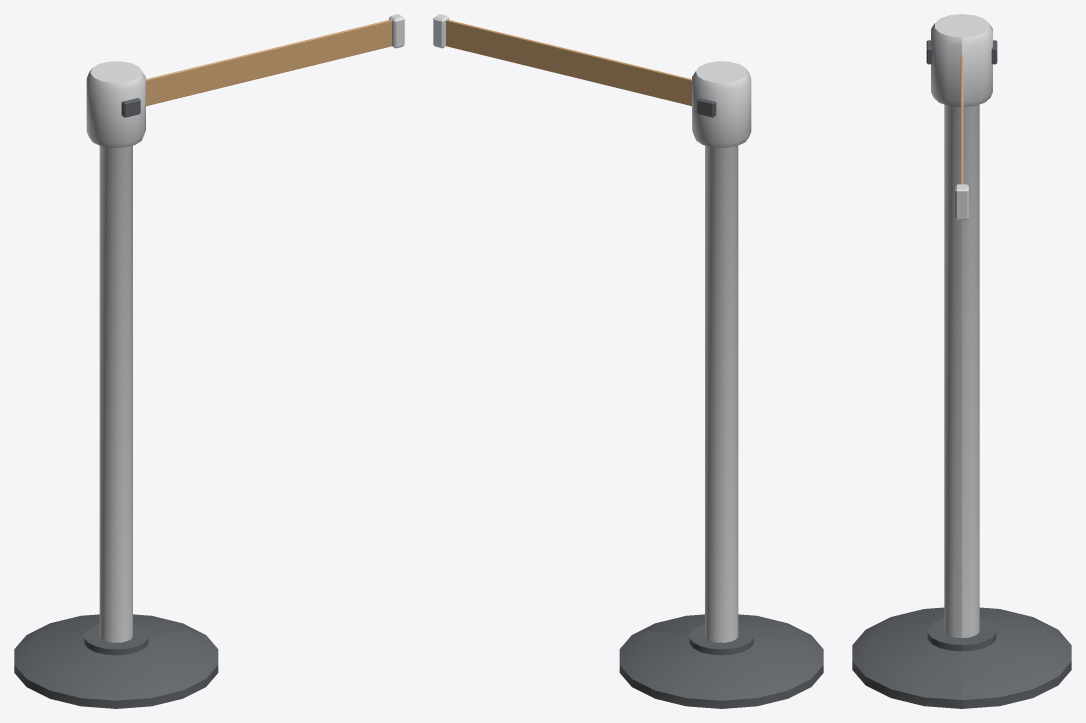
File: bakery-and-cafe-queue-rail-post-2f48aeda__22141.glb
The picture shows the model from 3 angles, left to right: view 1: azimuth 30°, elevation 25°; view 2: azimuth 150°, elevation 25°; view 3: azimuth 270°, elevation 25°; orthographic projection. The views are drawn at different scales.
Visible parts, largest first — view 1: queue-rail-post; view 2: queue-rail-post; view 3: queue-rail-post.
Boxes of the visible parts, x1=… form: queue-rail-post: x1=14, y1=14, x2=404, y2=708; queue-rail-post: x1=433, y1=14, x2=823, y2=708; queue-rail-post: x1=852, y1=14, x2=1071, y2=708.
Size of the model in its own units: 0.67 by 1.01 by 0.3151.
